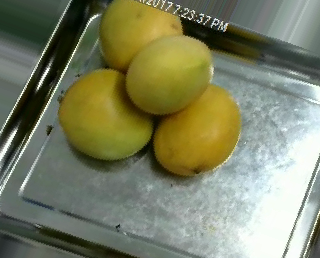Mango: (57, 63, 158, 164), (151, 81, 242, 178), (120, 31, 218, 119), (98, 2, 184, 78)
